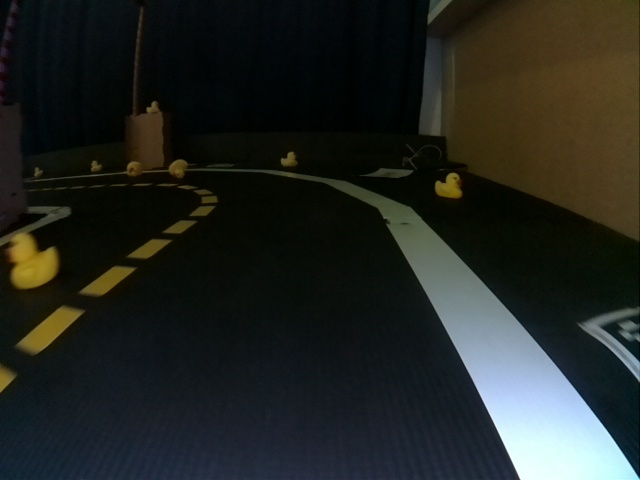Duckie: (9, 233, 59, 290), (434, 172, 463, 198), (168, 159, 188, 178), (281, 151, 297, 166), (127, 161, 142, 176), (146, 101, 158, 113), (90, 160, 102, 171)
QR code: (581, 306, 640, 383)
